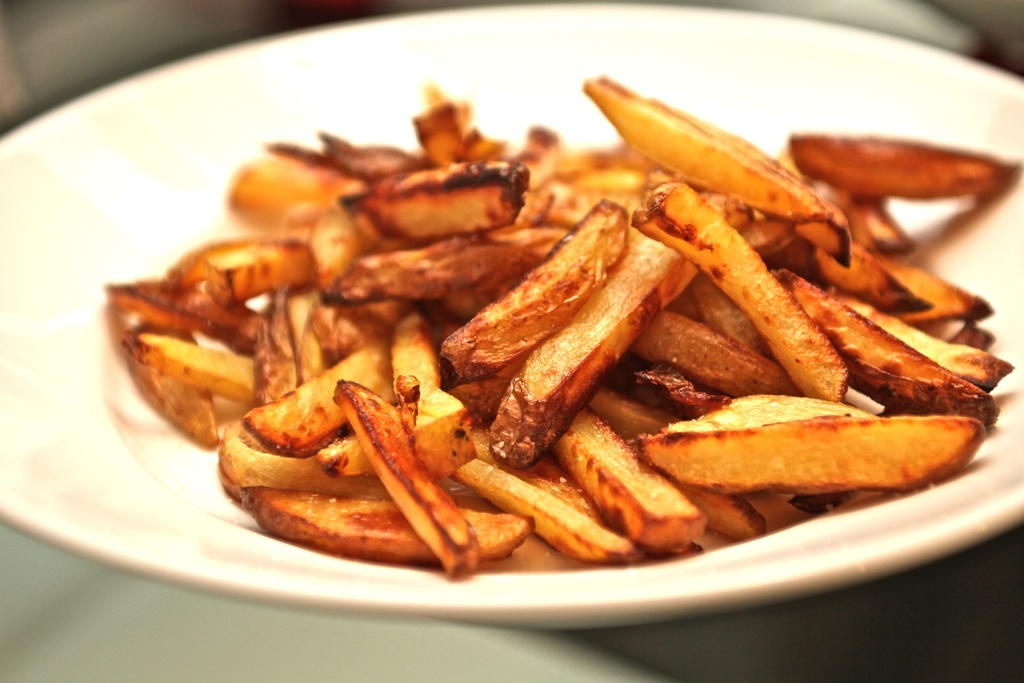French fries: (101, 62, 1023, 595)
